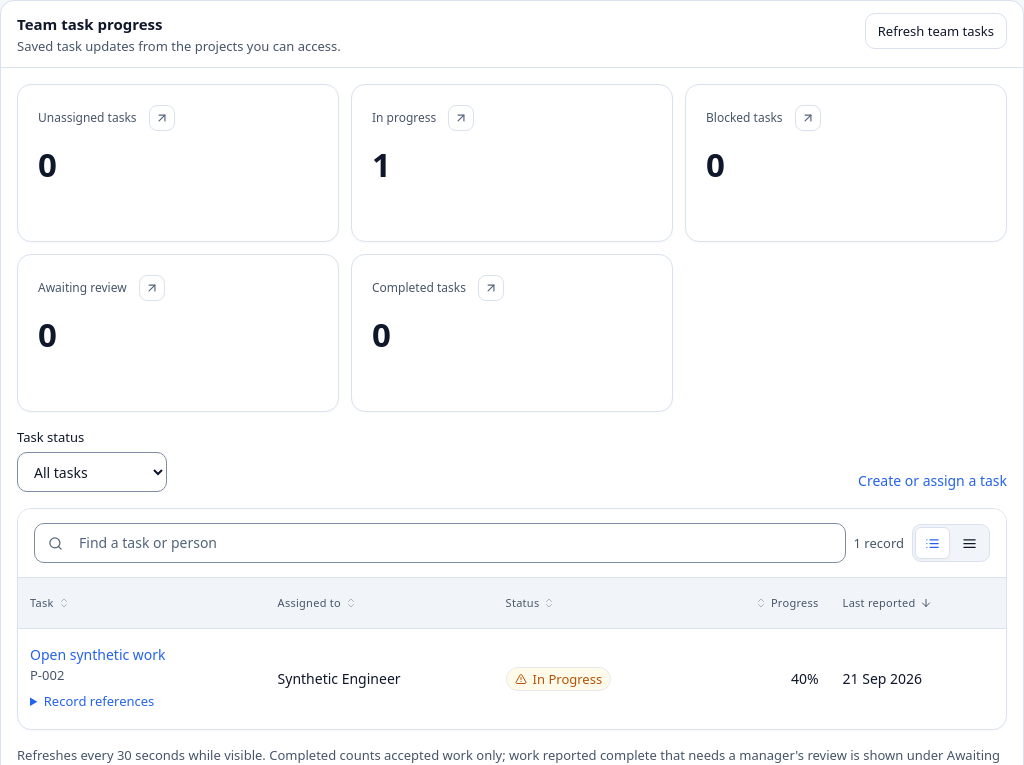
Test: Manager task visibility › re-reads team tasks when the manager refreshes after another user's update
Expected: the button "Completed tasks 0" is shown, left=352, top=255, right=672, bottom=411
Click the button named "Refresh team tasks" at coordinates (936, 31), box left=865, top=13, right=1007, bottom=49
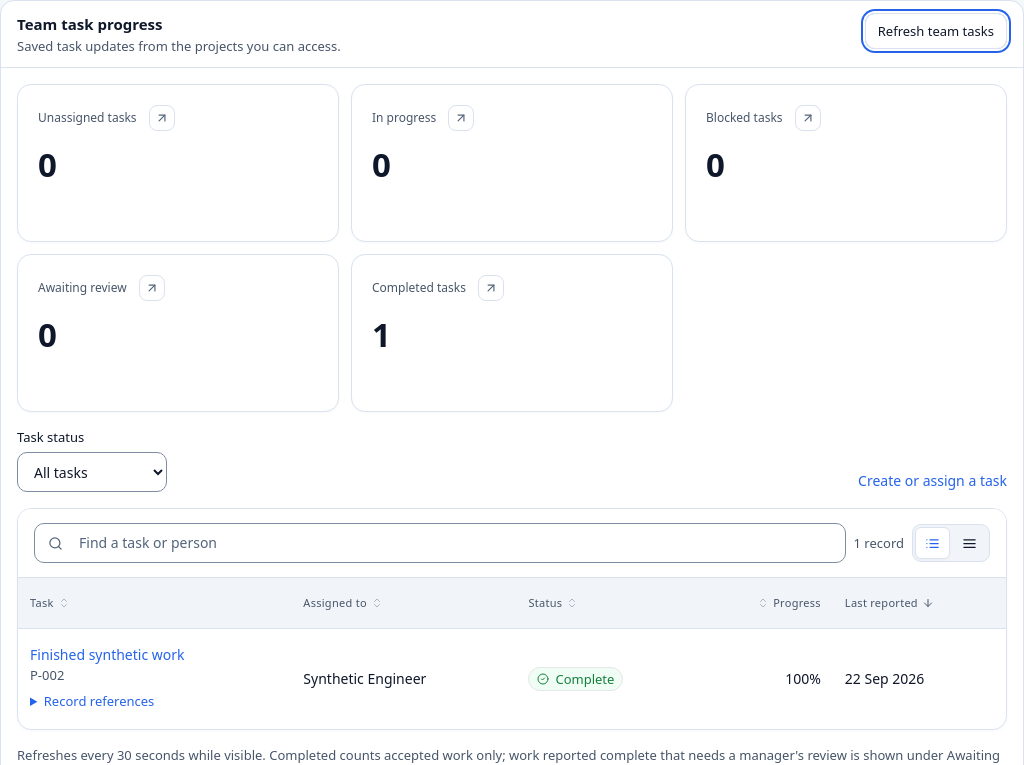
Result: the button "Completed tasks 1" is shown at left=352, top=255, right=672, bottom=411
Result: the link "Finished synthetic work" is shown at left=30, top=645, right=184, bottom=664
